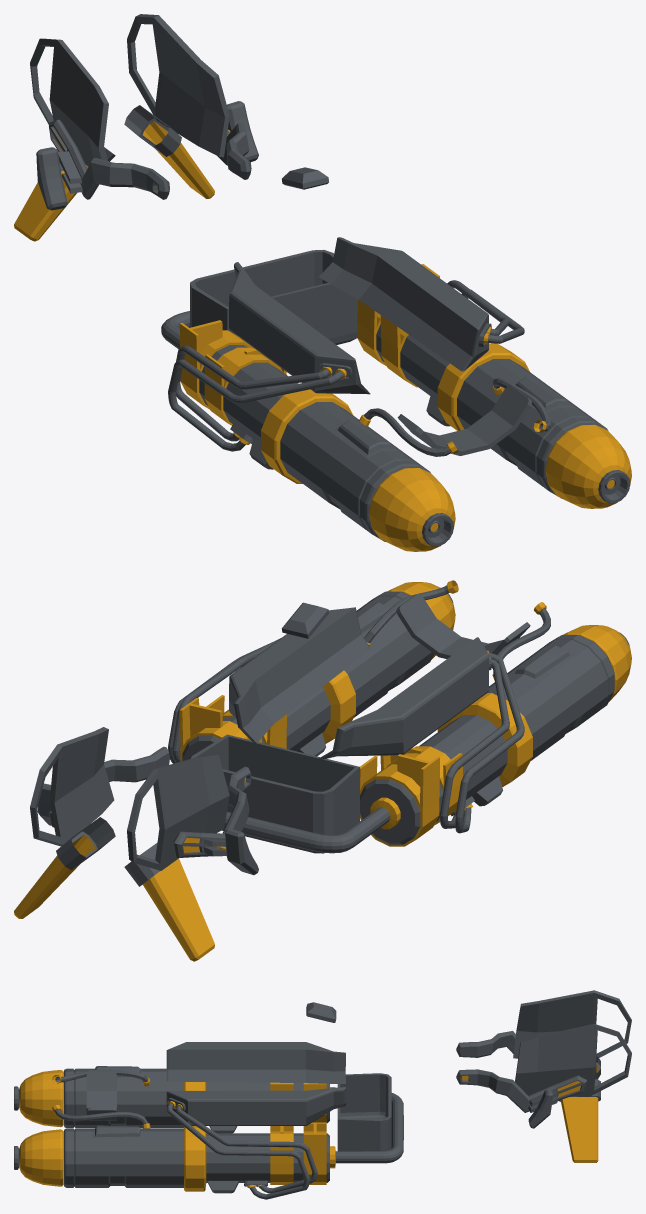
The model's file is Personal_Vehicle_03_Main_Frame_Yellow.fbx.
3 views of the same model, one above another, from view 1: azimuth 30°, elevation 25°; view 2: azimuth 150°, elevation 25°; view 3: azimuth 270°, elevation 25° (orthographic). The views are drawn at different scales.
Visible parts, largest first — view 1: Personal_Vehicle_03_Main_Frame_Yellow; view 2: Personal_Vehicle_03_Main_Frame_Yellow; view 3: Personal_Vehicle_03_Main_Frame_Yellow.
Part boxes in pixels (bbox=[...]): Personal_Vehicle_03_Main_Frame_Yellow: bbox=[14, 14, 631, 551]; Personal_Vehicle_03_Main_Frame_Yellow: bbox=[14, 580, 631, 961]; Personal_Vehicle_03_Main_Frame_Yellow: bbox=[14, 990, 631, 1199].
Bounding box in the file's own units: 177 × 128 × 465.
Materials: 1 (1 with a texture image).
